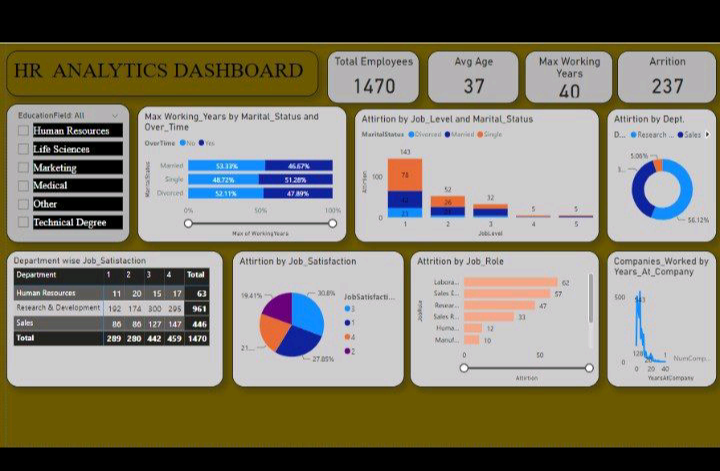

The dashboard page shown, as its layout file describes it:
{"tool":"powerbi","page":{"name":"Page 1","canvas":[1280,720],"ordinal":0},"visuals":[{"type":"textbox","box":[0,12.9,557.6,81.9],"z":0},{"type":"slicer","title":"Education Field","fields":{"Values":["Sheet1.EducationField"]},"box":[0,107.8,221.3,248.6],"z":1000},{"type":"card","title":"Total Employees","fields":{"Values":["Sum(Sheet1.EmployeeCount)"]},"box":[573.4,12.9,165.3,94.9],"z":2000},{"type":"card","title":"Avg Age","fields":{"Values":["Avg(Sheet1.Age)"]},"box":[753.1,12.9,163.8,94.9],"z":3000},{"type":"card","title":"Max Working Years","fields":{"Values":["Max(Sheet1.TotalWorkingYears)"]},"box":[926.9,12.9,158.1,94.9],"z":4000},{"type":"pivotTable","title":"Department wise Job_Satistaction","fields":{"Rows":["Sheet1.Department"],"Values":["Sum(Sheet1.EmployeeCount)"],"Columns":["Sheet1.JobSatisfaction"]},"box":[0,370.8,388,244.3],"z":5000},{"type":"card","title":"Arrition","fields":{"Values":["Sum(Sheet1.Attirtion)"]},"box":[1092.2,12.9,178.2,94.9],"z":6000},{"type":"columnChart","title":"Attirtion by Job_Level and Marital_Status","fields":{"Y":["Sum(Sheet1.Attirtion)"],"Category":["Sheet1.JobLevel"],"Series":["Sheet1.MaritalStatus"]},"box":[622.3,116.4,438.3,240],"z":7000},{"type":"pieChart","title":"Attirtion by Job_Satisfaction","fields":{"Category":["Sheet1.JobSatisfaction"],"Y":["Sum(Sheet1.Attirtion)"]},"box":[403.8,370.8,307.5,244.3],"z":8000},{"type":"hundredPercentStackedBarChart","title":"Max Working_Years by Marital_Status and Over_Time","fields":{"Category":["Sheet1.MaritalStatus"],"Series":["Sheet1.OverTime"],"Y":["Max(Sheet1.WorkingYears)"]},"box":[234.3,112.1,375.1,244.3],"z":9000},{"type":"donutChart","title":"Attirtion by Dept.","fields":{"Category":["Sheet1.Department"],"Y":["Sum(Sheet1.Attirtion)"]},"box":[1073.5,116.4,196.9,240],"z":10000},{"type":"barChart","title":"Attrition by Job_Role","fields":{"Category":["Sheet1.JobRole"],"Y":["Sum(Sheet1.Attirtion)"]},"box":[721.4,370.8,339.2,244.3],"z":11000},{"type":"lineChart","title":"Companies_Worked by Years_At_Company","fields":{"Category":["Sheet1.YearsAtCompany"],"Y":["Sum(Sheet1.NumCompaniesWorked)"]},"box":[1073.5,370.8,196.9,244.3],"z":12000}]}

Visuals, with their boxes in screenshot pixels (x1, y1, x2, y2):
textbox: bbox=(9, 50, 319, 96)
"Education Field" slicer: bbox=(9, 103, 132, 241)
"Total Employees" card: bbox=(327, 50, 419, 103)
"Avg Age" card: bbox=(427, 50, 518, 103)
"Max Working Years" card: bbox=(524, 50, 611, 103)
"Department wise Job_Satistaction" pivotTable: bbox=(9, 249, 225, 384)
"Arrition" card: bbox=(615, 50, 714, 103)
"Attirtion by Job_Level and Marital_Status" columnChart: bbox=(355, 108, 598, 241)
"Attirtion by Job_Satisfaction" pieChart: bbox=(233, 249, 404, 384)
"Max Working_Years by Marital_Status and Over_Time" hundredPercentStackedBarChart: bbox=(139, 105, 347, 241)
"Attirtion by Dept." donutChart: bbox=(605, 108, 714, 241)
"Attrition by Job_Role" barChart: bbox=(410, 249, 598, 384)
"Companies_Worked by Years_At_Company" lineChart: bbox=(605, 249, 714, 384)
